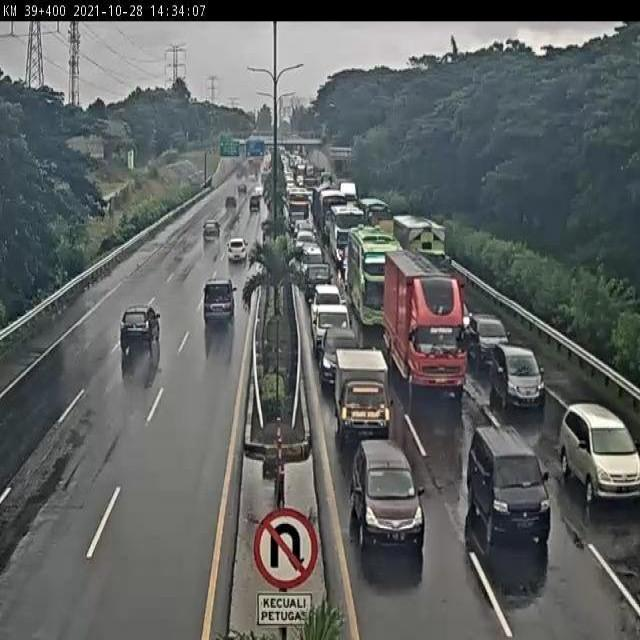big truck: (388, 248, 467, 395), (392, 212, 456, 284)
bus-l-: (348, 228, 401, 329), (330, 204, 364, 265)
car: (467, 428, 550, 544), (556, 400, 640, 497), (351, 440, 424, 545), (333, 351, 390, 444), (488, 341, 544, 408), (320, 331, 361, 386), (313, 303, 352, 357), (120, 307, 162, 356), (466, 313, 508, 360), (203, 280, 239, 329), (298, 258, 330, 298), (307, 283, 346, 308), (448, 299, 471, 340), (296, 238, 320, 266), (294, 222, 312, 242)
